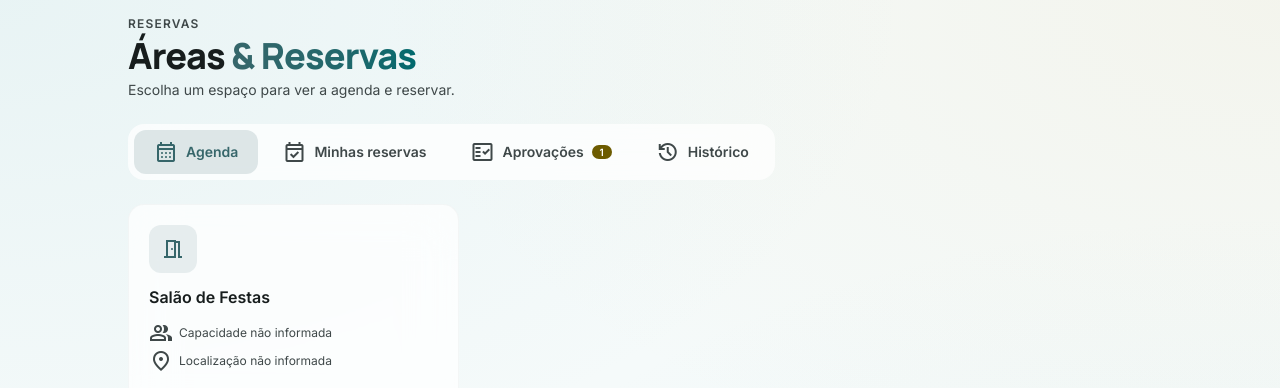
Test: MinhasReservas — síndico › lista a solicitação pendente com espaço e responsável
Click the button "Aprovações 1" at (541, 152), box left=450, top=130, right=632, bottom=174
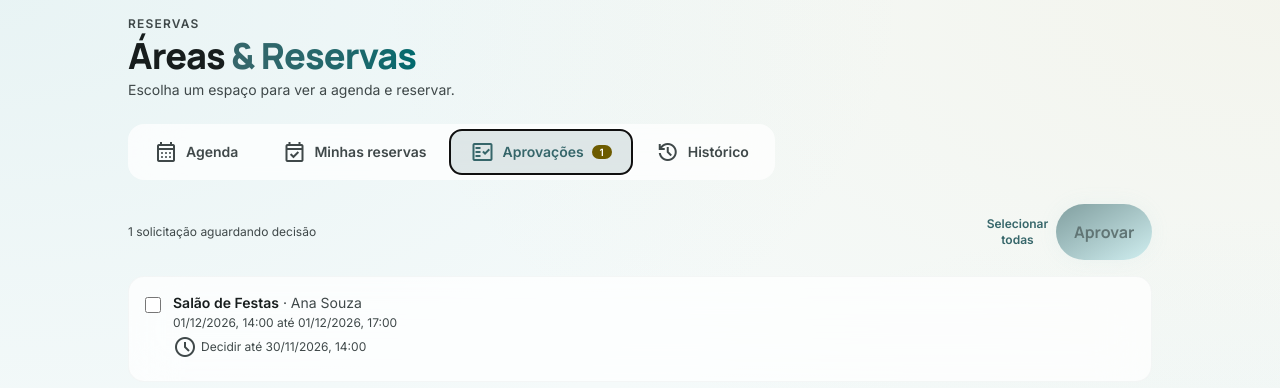
Check: the text "· Ana Souza" is shown, box left=279, top=294, right=362, bottom=311
